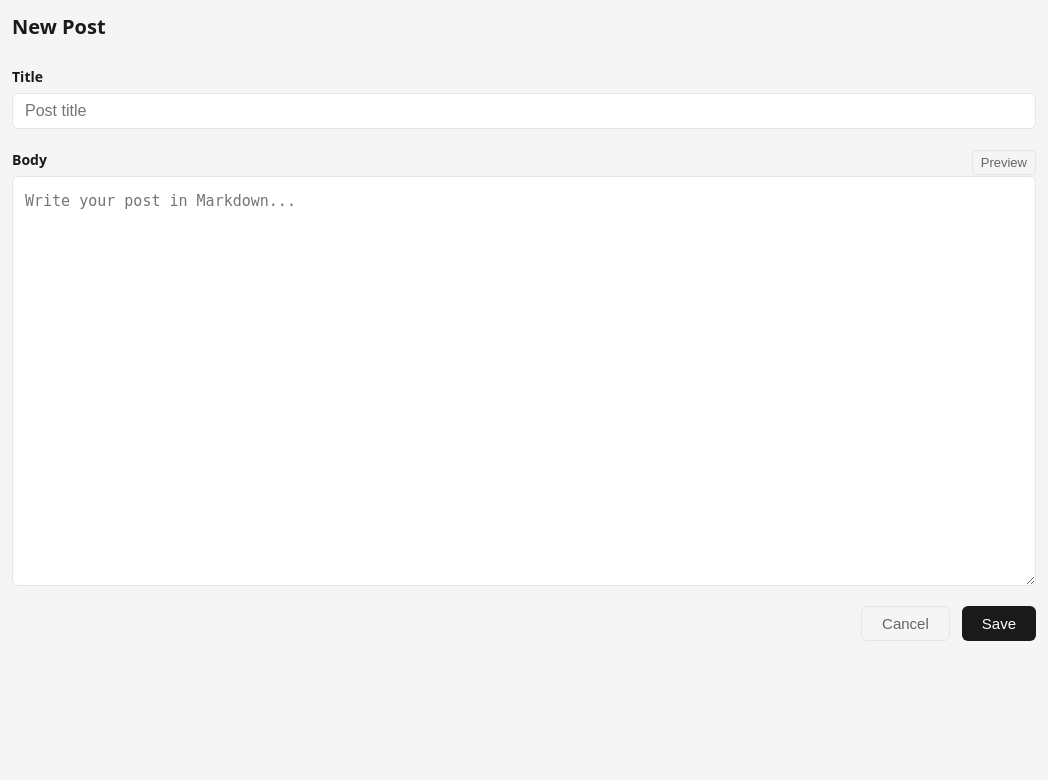
Test: US-002: Create posts with Markdown editor › US-002-AC02: Editor supports Markdown syntax › switches back to editor when Edit is clicked
The width and height of the screenshot is (1048, 780).
Click the button "Preview": (1004, 162) x1=972 y1=150 x2=1036 y2=175
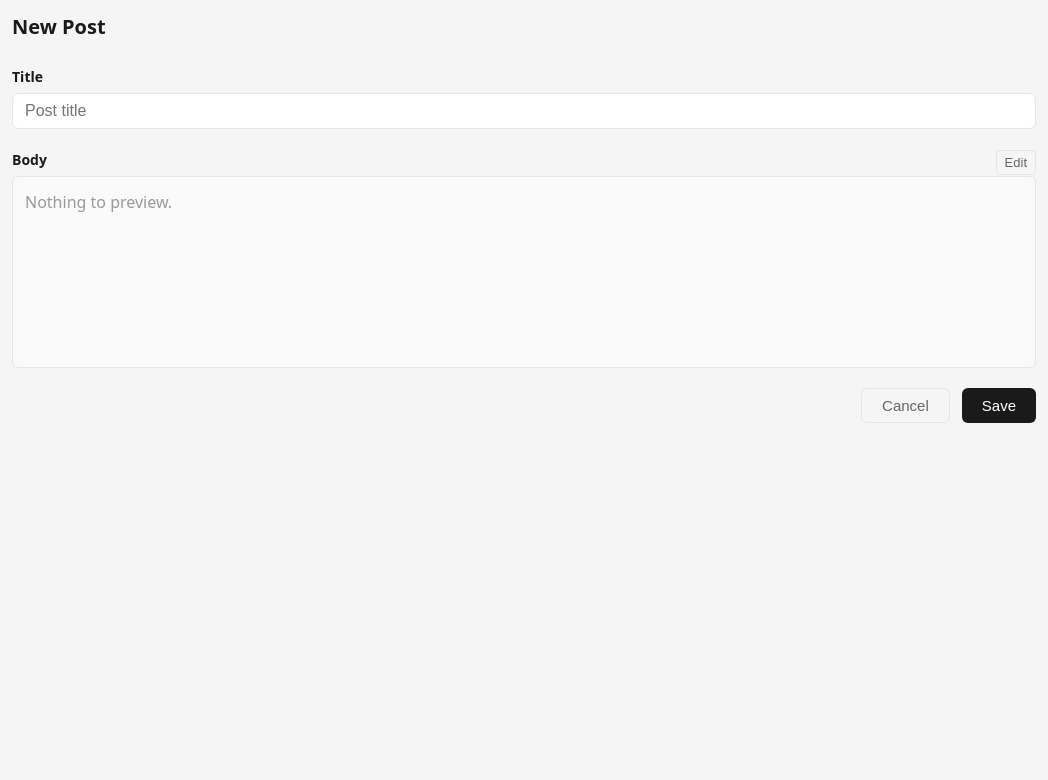
Click the button "Edit": (1016, 162) x1=996 y1=150 x2=1036 y2=175
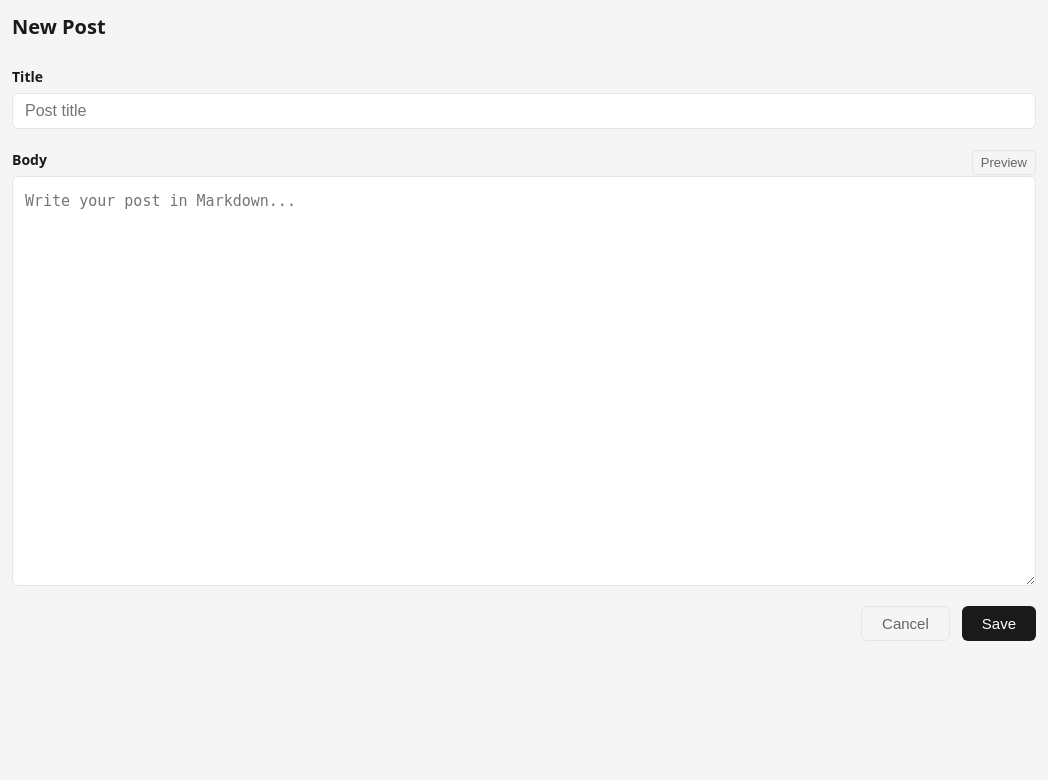
Now the text box labelled "Body" is shown, box x1=12 y1=176 x2=1036 y2=586
